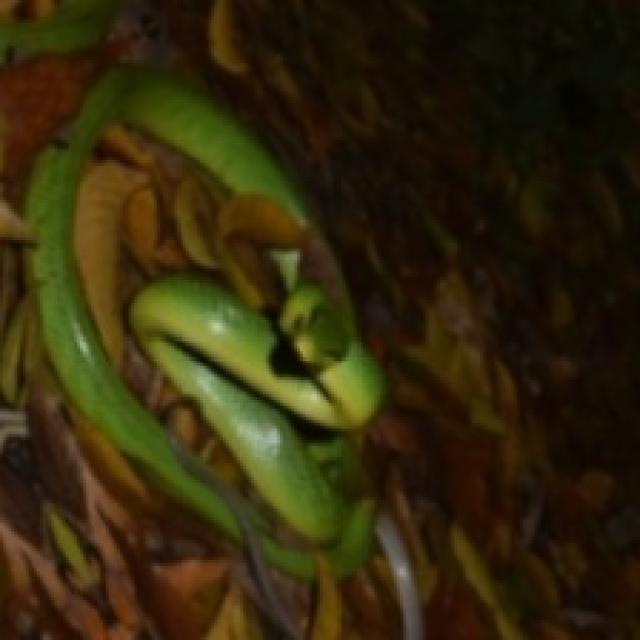red-tailed green ratsnake: (29, 66, 380, 577)
